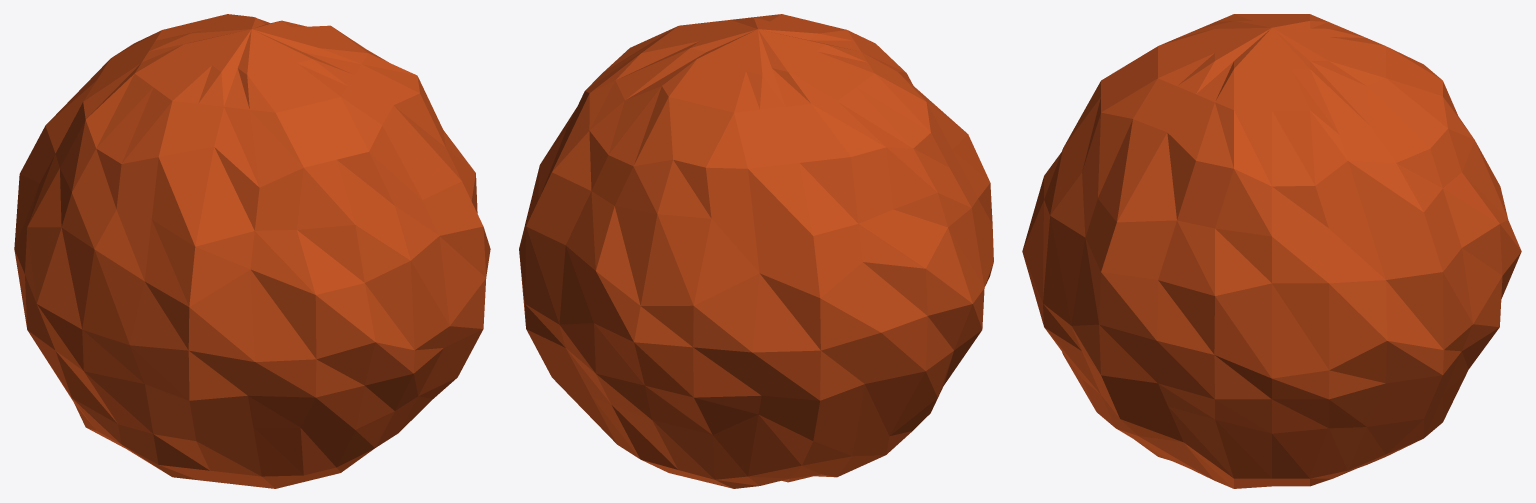
Rendered from venus.obj.
The picture shows the model from 3 angles, left to right: view 1: azimuth 30°, elevation 25°; view 2: azimuth 150°, elevation 25°; view 3: azimuth 270°, elevation 25°; orthographic projection.
Parts seen in each view (by area): view 1: Venus; view 2: Venus; view 3: Venus.
Part boxes in pixels (x1,y1,x2,y2): Venus: [14, 14, 490, 488]; Venus: [519, 14, 993, 488]; Venus: [1022, 14, 1521, 488].
Bounding box in the file's own units: 206 × 208 × 210.
Materials: 1 (1 with a texture image).
